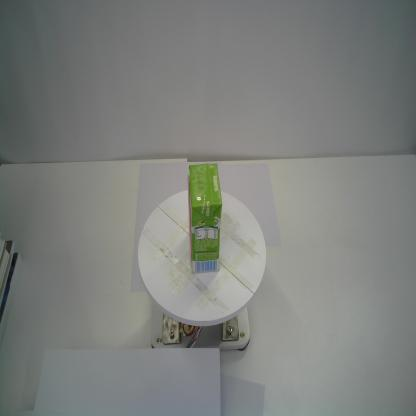Milk: (187, 162, 223, 274)
